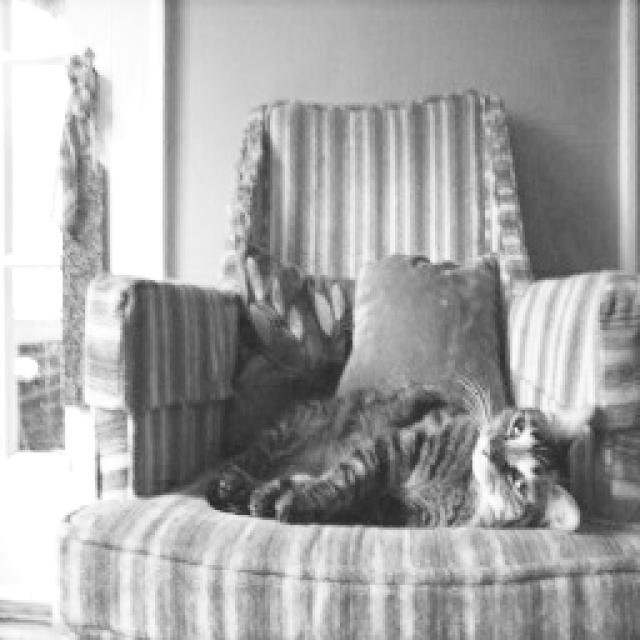cat: (226, 373, 604, 551)
